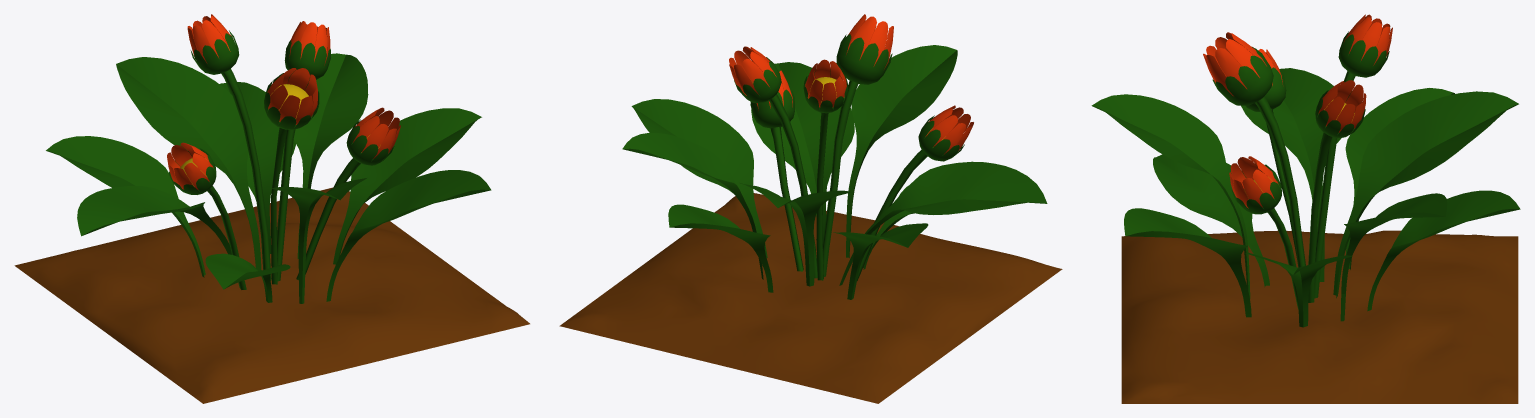
File: orange-daisy-p2-bloom.glb
3 views of the same model, side by side, from view 1: azimuth 30°, elevation 25°; view 2: azimuth 150°, elevation 25°; view 3: azimuth 270°, elevation 25° (orthographic). The views are drawn at different scales.
Parts seen in each view (by area): view 1: 2_nft_bloom; view 2: 2_nft_bloom; view 3: 2_nft_bloom.
Boxes of the visible parts, box(x1,y1,x2,y2) form: 2_nft_bloom: box(14, 14, 529, 403); 2_nft_bloom: box(559, 14, 1062, 403); 2_nft_bloom: box(1091, 14, 1520, 403).
Bounding box in the file's own units: 0.885 × 0.5529 × 0.758.
